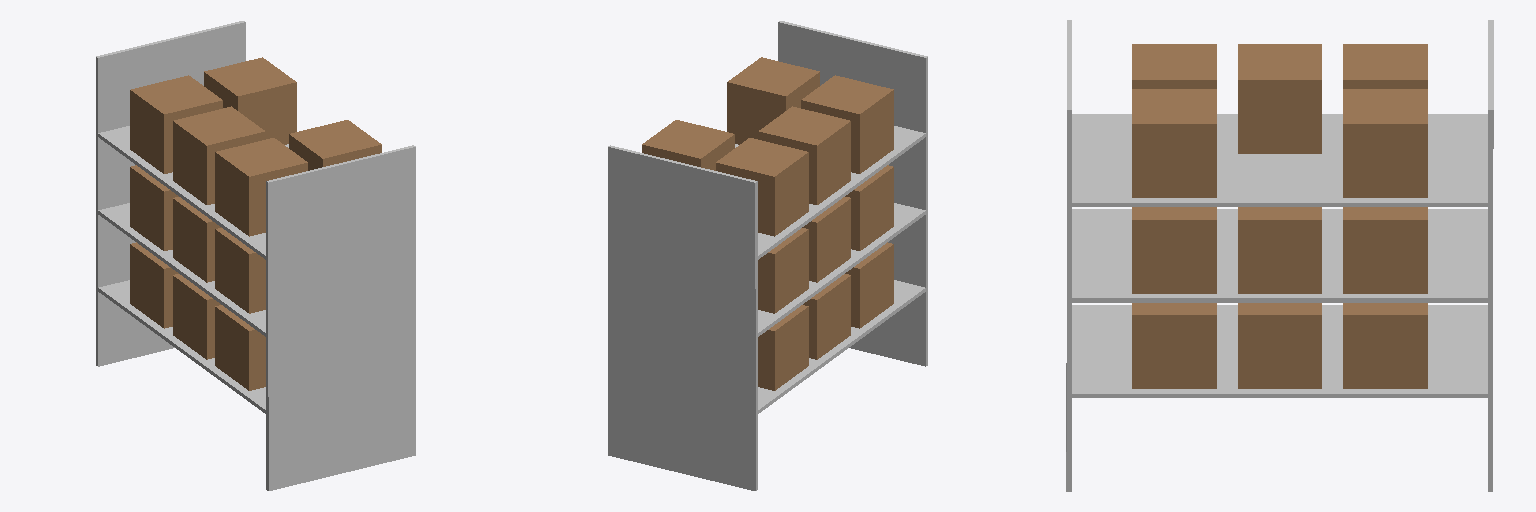
The robot description file, URDF, robot "multi_static_boxes2":
<?xml version="1.0"?>
<robot name="multi_static_boxes2">

  <material name="Black">
    <color rgba="0.0 0.0 0.0 1.0"/>
  </material>
  <material name="Blue">
    <color rgba="0.0 0.0 0.8 1.0"/>
  </material>
  <material name="Green">
    <color rgba="0.0 0.9 0.0 1.0"/>
  </material>
  <material name="Grey">
    <color rgba="0.4 0.4 0.4 1.0"/>
  </material>
  <material name="Glas">
    <color rgba="0.4 0.4 0.4 0.1"/>
  </material>
  <material name="Orange">
    <color rgba="1.0 0.423529411765 0.0392156862745 1.0"/>
  </material>
  <material name="Brown">
    <color rgba="0.870588235294 0.811764705882 0.764705882353 1.0"/>
  </material>
  <material name="Red">
    <color rgba="0.8 0.0 0.0 1.0"/>
  </material>
  <material name="White">
    <color rgba="1.0 1.0 1.0 1.0"/>
  </material>
  <material name="Silver">
    <color rgba="0.82 0.82 0.82 1.0"/>
  </material>
  <material name="Box_color">
    <color rgba="0.678 0.529 0.384 1.0"/>
  </material>



  <link name="base"/>

  <joint name="base_to_box_0" type="fixed">
    <parent link="base"/>
    <child link="box_0"/>
    <origin rpy="0 0 0" xyz="-3 3 0.25"/>
  </joint>

  <link name="box_0">
    <visual>
      <origin xyz="0 0 0.05" rpy="0 0 0" />
      <geometry>
        <box size="0.4 0.4 0.4" />
      </geometry>
      <material name="Box_color"/>
    </visual>
    <visual>
      <origin xyz="0 0 0.55" rpy="0 0 0" />
      <geometry>
        <box size="0.4 0.4 0.4" />
      </geometry>
      <material name="Box_color"/>
    </visual>
    <visual>
      <origin xyz="0 0 1.05" rpy="0 0 0" />
      <geometry>
        <box size="0.4 0.4 0.4" />
      </geometry>
      <material name="Box_color"/>
    </visual>
    <visual>
      <origin xyz="0.25 -0.5 -0.15" rpy="0 0 0" />
      <geometry>
        <box size="1 2 0.025" />
      </geometry>
      <material name="Silver"/>
    </visual>
    <visual>
      <origin xyz="0.25 -0.5 0.35" rpy="0 0 0" />
      <geometry>
        <box size="1 2 0.025" />
      </geometry>
      <material name="Silver"/>
    </visual>
    <visual>
      <origin xyz="0.25 -0.5 0.85" rpy="0 0 0" />
      <geometry>
        <box size="1 2 0.025" />
      </geometry>
      <material name="Silver"/>
    </visual>

    <visual>
      <origin xyz="0.25 -1.5 0.35" rpy="1.57 0 0" />
      <geometry>
        <box size="1 2 0.025" />
      </geometry>
      <material name="Silver"/>
    </visual>
    <visual>
      <origin xyz="0.25 0.5 0.35" rpy="1.57 0 0" />
      <geometry>
        <box size="1 2 0.025" />
      </geometry>
      <material name="Silver"/>
    </visual>
  </link>

  <joint name="base_to_box_1" type="fixed">
    <parent link="base"/>
    <child link="box_1"/>
    <origin rpy="0 0 0" xyz="-3 2.5 0.25"/>
  </joint>

  <link name="box_1">
    <visual>
      <origin xyz="0 0 0.05" rpy="0 0 0" />
      <geometry>
        <box size="0.4 0.4 0.4" />
      </geometry>
      <material name="Box_color"/>
    </visual>
    <visual>
      <origin xyz="0 0 0.55" rpy="0 0 0" />
      <geometry>
        <box size="0.4 0.4 0.4" />
      </geometry>
      <material name="Box_color"/>
    </visual>
    <visual>
      <origin xyz="0 0 1.05" rpy="0 0 0" />
      <geometry>
        <box size="0.4 0.4 0.4" />
      </geometry>
      <material name="Box_color"/>
    </visual>
  </link>

  <joint name="base_to_box_2" type="fixed">
    <parent link="base"/>
    <child link="box_2"/>
    <origin rpy="0 0 0" xyz="-2.5 2.5 0.25"/>
  </joint>

  <link name="box_2">
    <visual>
      <origin xyz="0 0 0.05" rpy="0 0 0" />
      <geometry>
        <box size="0.4 0.4 0.4" />
      </geometry>
      <material name="Box_color"/>
    </visual>
    <visual>
      <origin xyz="0 0 0.55" rpy="0 0 0" />
      <geometry>
        <box size="0.4 0.4 0.4" />
      </geometry>
      <material name="Box_color"/>
    </visual>

  </link>

  <joint name="base_to_box_3" type="fixed">
    <parent link="base"/>
    <child link="box_3"/>
    <origin rpy="0 0 0" xyz="-2.5 3.0 0.25"/>
  </joint>

  <link name="box_3">
    <visual>
      <origin xyz="0 0 0.05" rpy="0 0 0" />
      <geometry>
        <box size="0.4 0.4 0.4" />
      </geometry>
      <material name="Box_color"/>
    </visual>
    <visual>
      <origin xyz="0 0 0.55" rpy="0 0 0" />
      <geometry>
        <box size="0.4 0.4 0.4" />
      </geometry>
      <material name="Box_color"/>
    </visual>

    <visual>
      <origin xyz="0 0 1.05" rpy="0 0 0" />
      <geometry>
        <box size="0.4 0.4 0.4" />
      </geometry>
      <material name="Box_color"/>
    </visual>

  </link>



  <joint name="base_to_box_4" type="fixed">
    <parent link="base"/>
    <child link="box_4"/>
    <origin rpy="0 0 0" xyz="-2.5 2.0 0.25"/>
  </joint>

  <link name="box_4">
    <visual>
      <origin xyz="0 0 0.05" rpy="0 0 0" />
      <geometry>
        <box size="0.4 0.4 0.4" />
      </geometry>
      <material name="Box_color"/>
    </visual>
    <visual>
      <origin xyz="0 0 0.55" rpy="0 0 0" />
      <geometry>
        <box size="0.4 0.4 0.4" />
      </geometry>
      <material name="Box_color"/>
    </visual>
    <visual>
      <origin xyz="0 0 1.05" rpy="0 0 0" />
      <geometry>
        <box size="0.4 0.4 0.4" />
      </geometry>
      <material name="Box_color"/>
    </visual>
  </link>

  <joint name="base_to_box_5" type="fixed">
    <parent link="base"/>
    <child link="box_5"/>
    <origin rpy="0 0 0" xyz="-3.0 2.0 0.25"/>
  </joint>

  <link name="box_5">
    <visual>
      <origin xyz="0 0 0.05" rpy="0 0 0" />
      <geometry>
        <box size="0.4 0.4 0.4" />
      </geometry>
      <material name="Box_color"/>
    </visual>
    <visual>
      <origin xyz="0 0 0.55" rpy="0 0 0" />
      <geometry>
        <box size="0.4 0.4 0.4" />
      </geometry>
      <material name="Box_color"/>
    </visual>
    <visual>
      <origin xyz="0 0 1.05" rpy="0 0 0" />
      <geometry>
        <box size="0.4 0.4 0.4" />
      </geometry>
      <material name="Box_color"/>
    </visual>
  </link>
<!-- upstairs -->
  <!-- <joint name="base_to_box_6" type="fixed">
    <parent link="base"/>
    <child link="box_6"/>
    <origin rpy="0 0 1" xyz="-6.2 -3.1 1.5"/>
  </joint>

  <link name="box_6">
    <visual>
      <origin xyz="0 0 0" rpy="0 0 0" />
      <geometry>
        <box size="0.4 0.4 0.4" />
      </geometry>
      <material name="Box_color"/>
    </visual>
  </link>

  <joint name="base_to_box_7" type="fixed">
    <parent link="base"/>
    <child link="box_7"/>
    <origin rpy="0 0 1.2" xyz="-6.1 -2.6 1.5"/>
  </joint>

  <link name="box_7">
    <visual>
      <origin xyz="0 0 0" rpy="0 0 0" />
      <geometry>
        <box size="0.4 0.4 0.4" />
      </geometry>
      <material name="Box_color"/>
    </visual>
  </link>

  <joint name="base_to_box_8" type="fixed">
    <parent link="base"/>
    <child link="box_8"/>
    <origin rpy="0 0 0.9" xyz="-5.7 -3 1.5"/>
  </joint>

  <link name="box_8">
    <visual>
      <origin xyz="0 0 0" rpy="0 0 0" />
      <geometry>
        <box size="0.4 0.4 0.4" />
      </geometry>
      <material name="Box_color"/>
    </visual>
  </link>

  <joint name="base_to_box_9" type="fixed">
    <parent link="base"/>
    <child link="box_9"/>
    <origin rpy="0 0 0.7" xyz="-5.9 -2.9 1.9"/>
  </joint>

  <link name="box_9">
    <visual>
      <origin xyz="0 0 0" rpy="0 0 0" />
      <geometry>
        <box size="0.4 0.4 0.4" />
      </geometry>
      <material name="Box_color"/>
    </visual>
  </link> -->
</robot>

--- Render facts (derived) ---
Views: 3 orthographic renders of the robot side by side, from view 1: azimuth 30°, elevation 25°; view 2: azimuth 150°, elevation 25°; view 3: azimuth 270°, elevation 25°.
Robot: multi_static_boxes2 — 7 links, 6 joints (6 fixed); root link base; default pose: all joints at 0.
Links seen in each view (by area): view 1: box_0, box_5, box_1, box_3, box_4; view 2: box_0, box_5, box_1, box_4, box_3; view 3: box_0, box_3, box_4, box_2, box_1, box_5.
Boxes of the visible links, x1,y1,x2,y2 form: box_0: (96,21,415,490); box_5: (215,138,307,390); box_1: (173,106,265,359); box_3: (204,57,296,144); box_4: (289,120,381,170); box_0: (608,21,927,490); box_5: (801,75,893,328); box_1: (758,106,850,359); box_4: (727,57,819,144); box_3: (642,120,734,170); box_0: (1066,20,1493,491); box_3: (1343,89,1427,388); box_4: (1132,89,1216,388); box_2: (1238,207,1321,388); box_1: (1238,44,1321,153); box_5: (1132,44,1216,88).
Size in the robot's own frame: 1 by 2.03 by 2 metres.
Geometry: primitives only (box / cylinder / sphere), no mesh files.